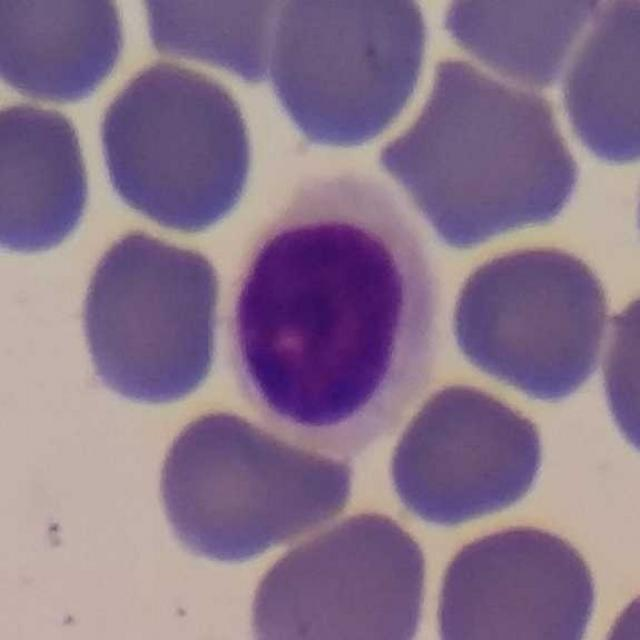Lymphocyte: (225, 165, 440, 459)
RBC: (367, 47, 591, 255), (146, 403, 358, 568), (91, 54, 263, 240), (70, 219, 232, 414), (442, 235, 618, 406), (259, 0, 440, 159), (381, 377, 554, 531), (240, 505, 437, 640), (425, 515, 606, 640), (127, 0, 344, 86), (431, 0, 621, 89), (0, 95, 100, 262), (554, 1, 639, 174), (0, 0, 135, 108), (593, 273, 640, 473), (585, 570, 640, 640)
